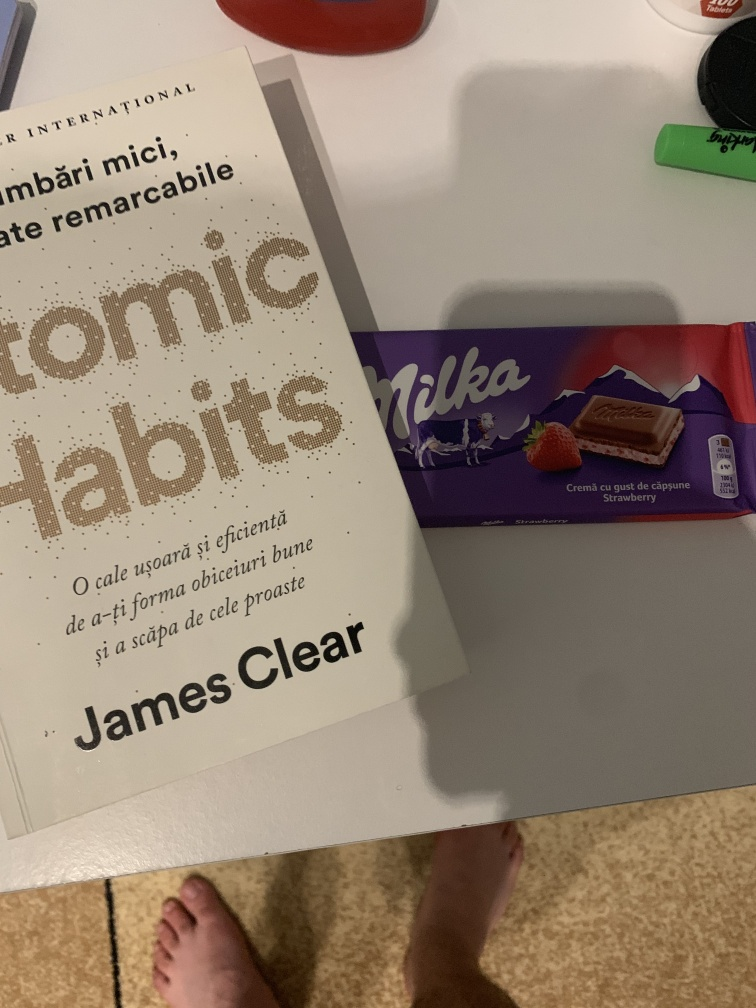milka: (320, 293, 756, 557)
